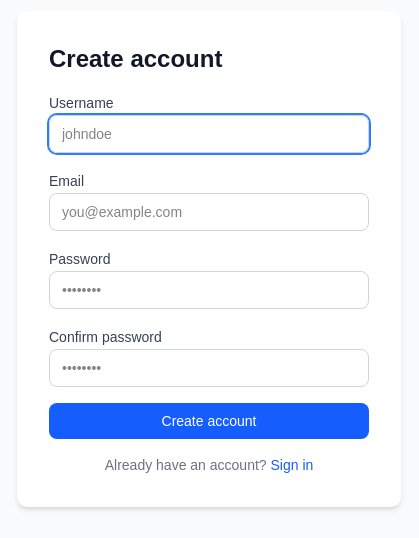
Test: RegisterPage › shows validation error when passwords don't match
Type "alice" into the field with placeholder "johndoe" at (209,134), box [49, 115, 369, 153]
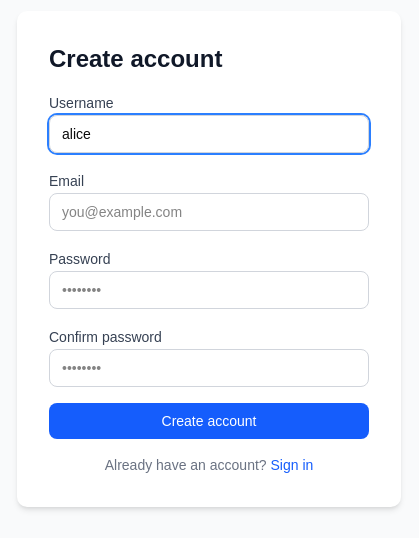
Type "alice@test.com" into the field with placeholder "you@example.com" at (209,212), box [49, 193, 369, 231]
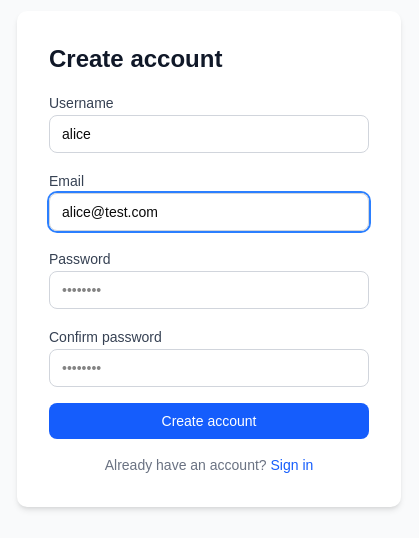
Type "password123" into the 1st password field with placeholder "••••••••" at (209,290), box [49, 271, 369, 309]
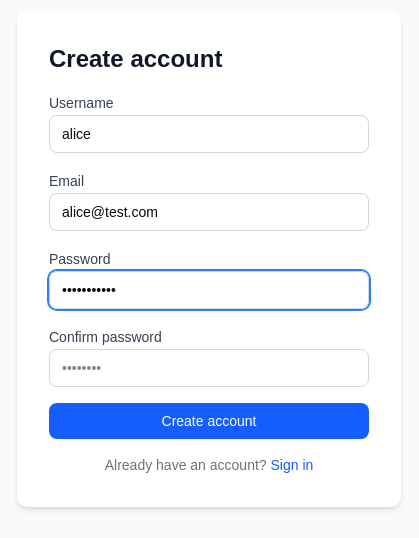
Type "differentpass" into the password field with placeholder "••••••••" at (209,368), box [49, 349, 369, 387]
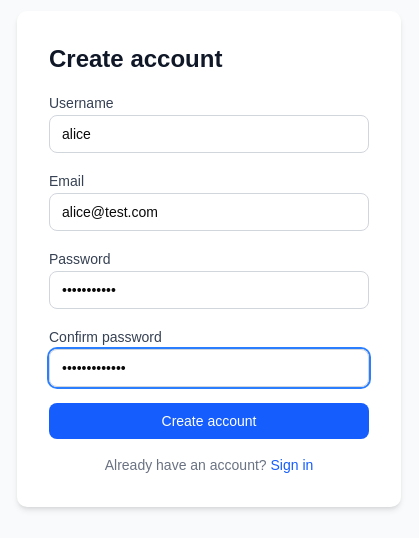
Click the button "Create account" at (209,421), box [49, 403, 369, 439]
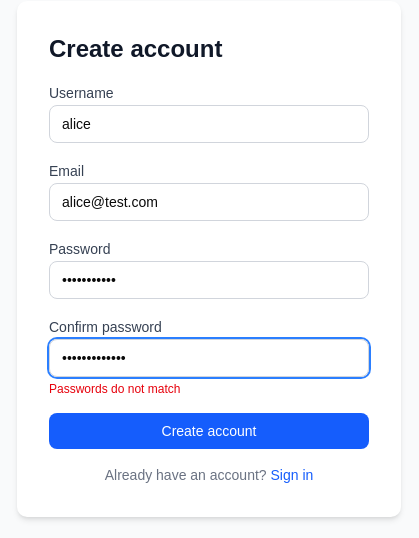
Result: the text "Passwords do not match" is shown at [49, 382, 180, 396]
